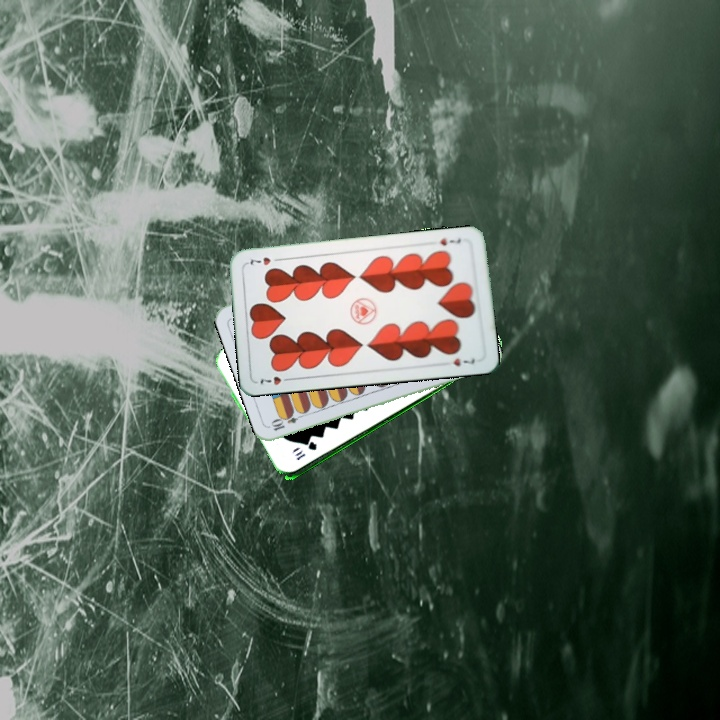E10: (267, 409, 307, 433)
G10: (291, 439, 320, 463)
H7: (256, 372, 295, 388), (436, 233, 463, 248)
